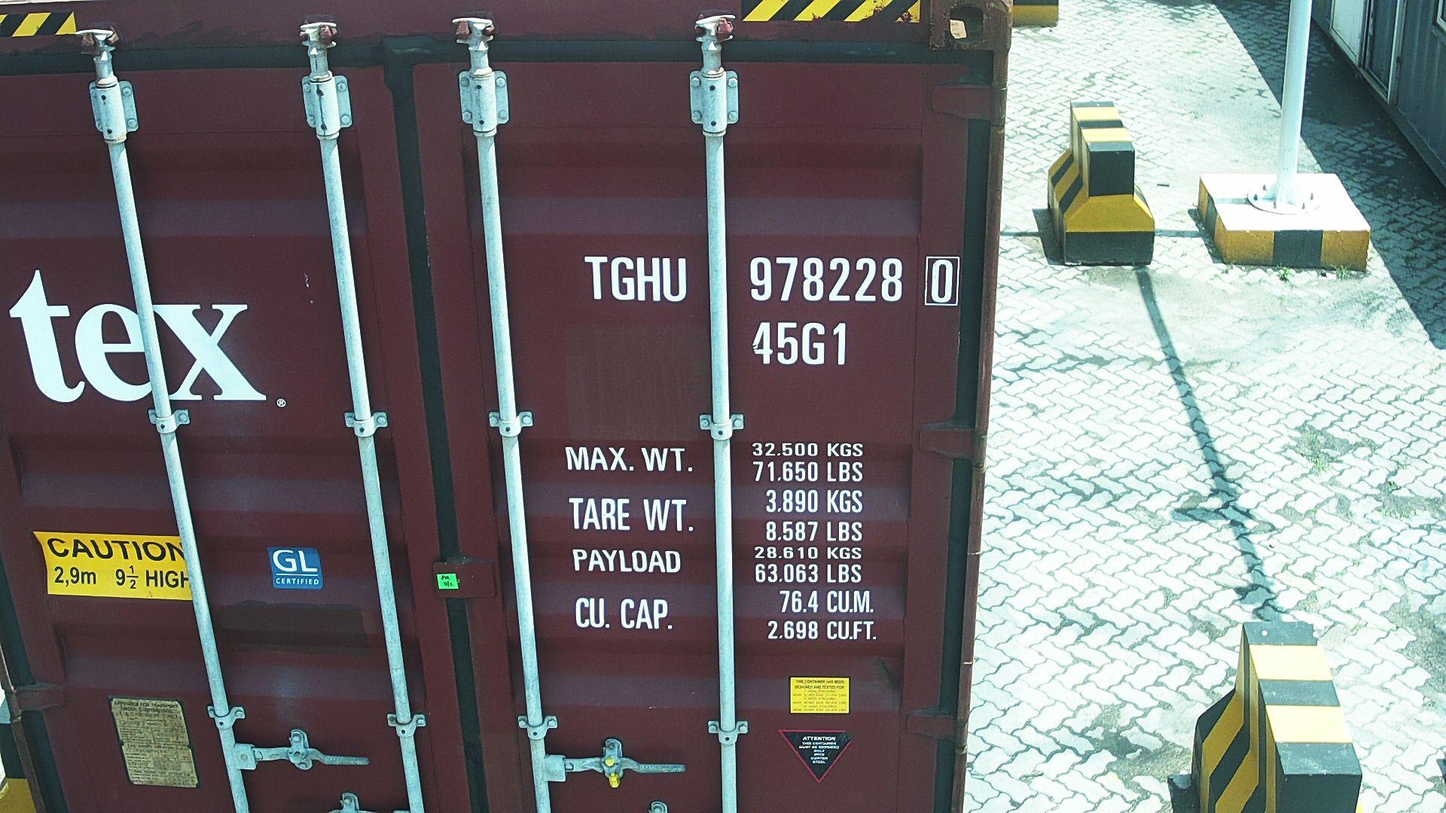container-numbers: (582, 251, 966, 309), (749, 318, 852, 370)
